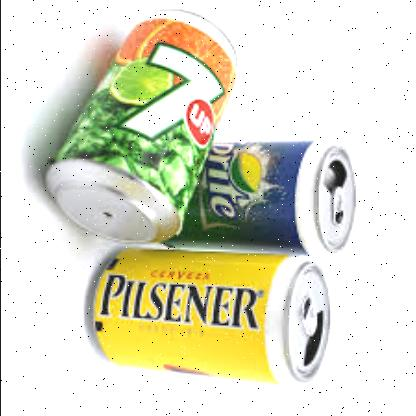Can: (42, 6, 238, 242), (91, 248, 331, 380), (154, 139, 354, 249)
